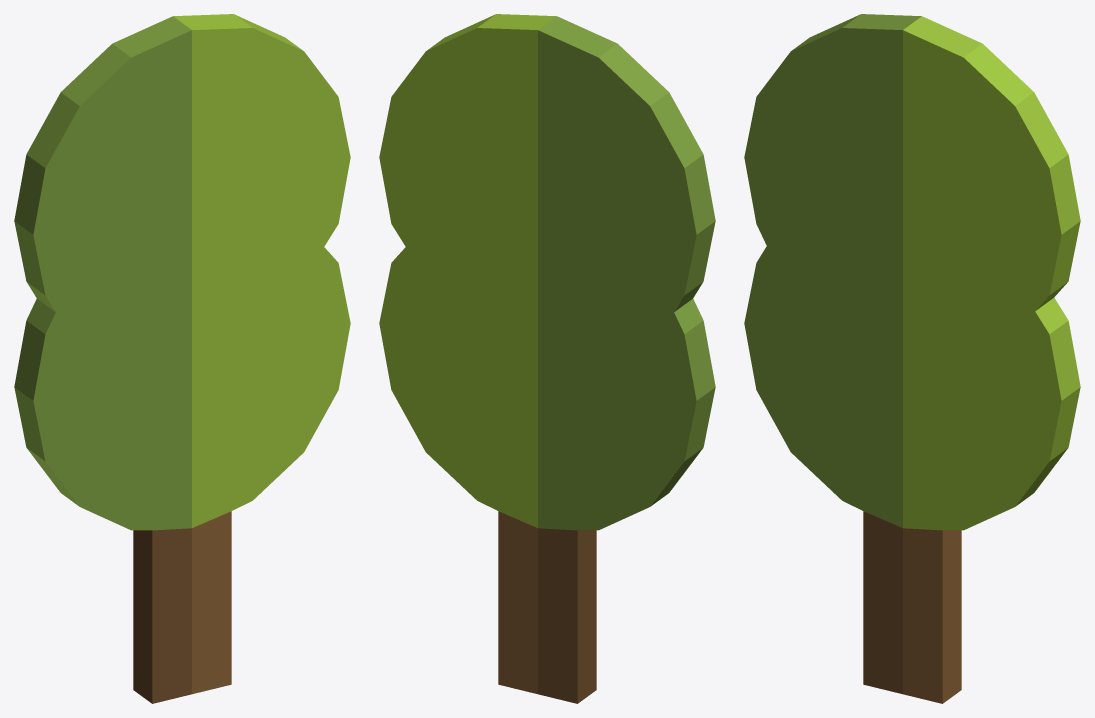
Rendered from ovaltree-mid.fbx.
3 views of the same model, side by side, from view 1: azimuth 30°, elevation 25°; view 2: azimuth 150°, elevation 25°; view 3: azimuth 330°, elevation 25° (orthographic).
Parts seen in each view (by area): view 1: Plane; view 2: Plane; view 3: Plane.
Boxes of the visible parts, x1,y1,x2,y2 form: Plane: (14, 14, 350, 703); Plane: (379, 14, 715, 703); Plane: (744, 14, 1080, 703).
Bounding box in the file's own units: 24000 × 48000 × 2500.
